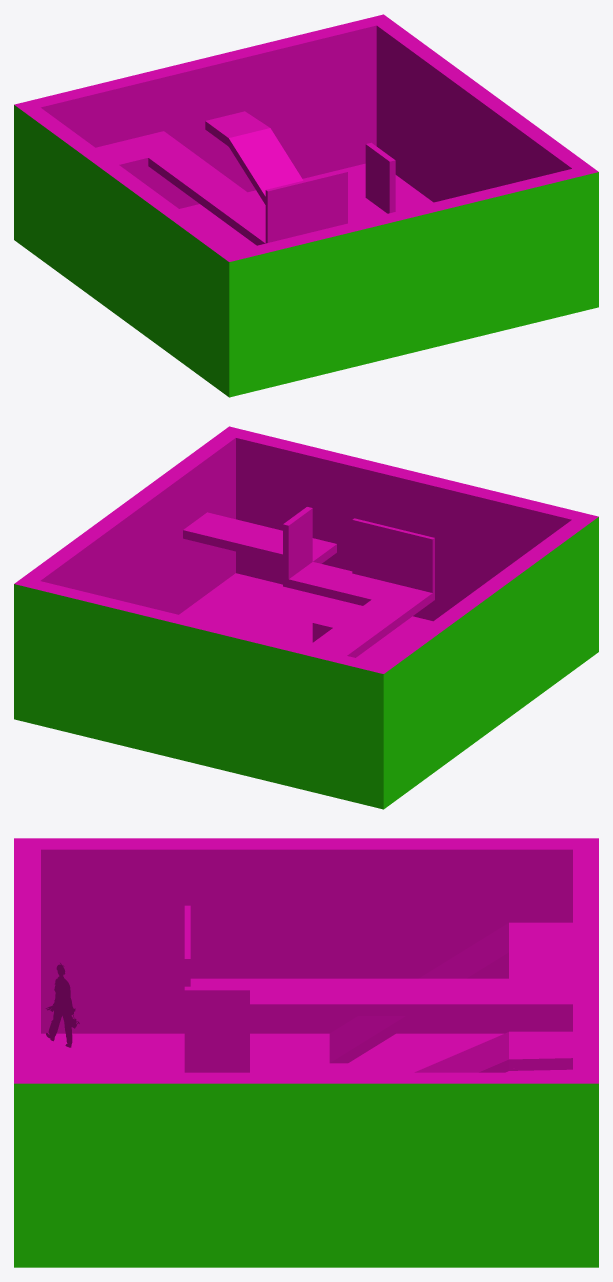
The model's file is Level2.FBX.
The picture shows the model from 3 angles, top to bottom: view 1: azimuth 30°, elevation 25°; view 2: azimuth 150°, elevation 25°; view 3: azimuth 270°, elevation 25°; orthographic projection. The views are drawn at different scales.
Parts seen in each view (by area): view 1: Model; view 2: Model; view 3: Model, Lisanne1.
Part boxes in pixels (left/top/right/bottom): Model: left=14, top=14, right=598, bottom=397; Model: left=14, top=426, right=598, bottom=809; Model: left=14, top=838, right=598, bottom=1267; Lisanne1: left=45, top=963, right=79, bottom=1047.
Bounding box in the file's own units: 430 × 158 × 433.
